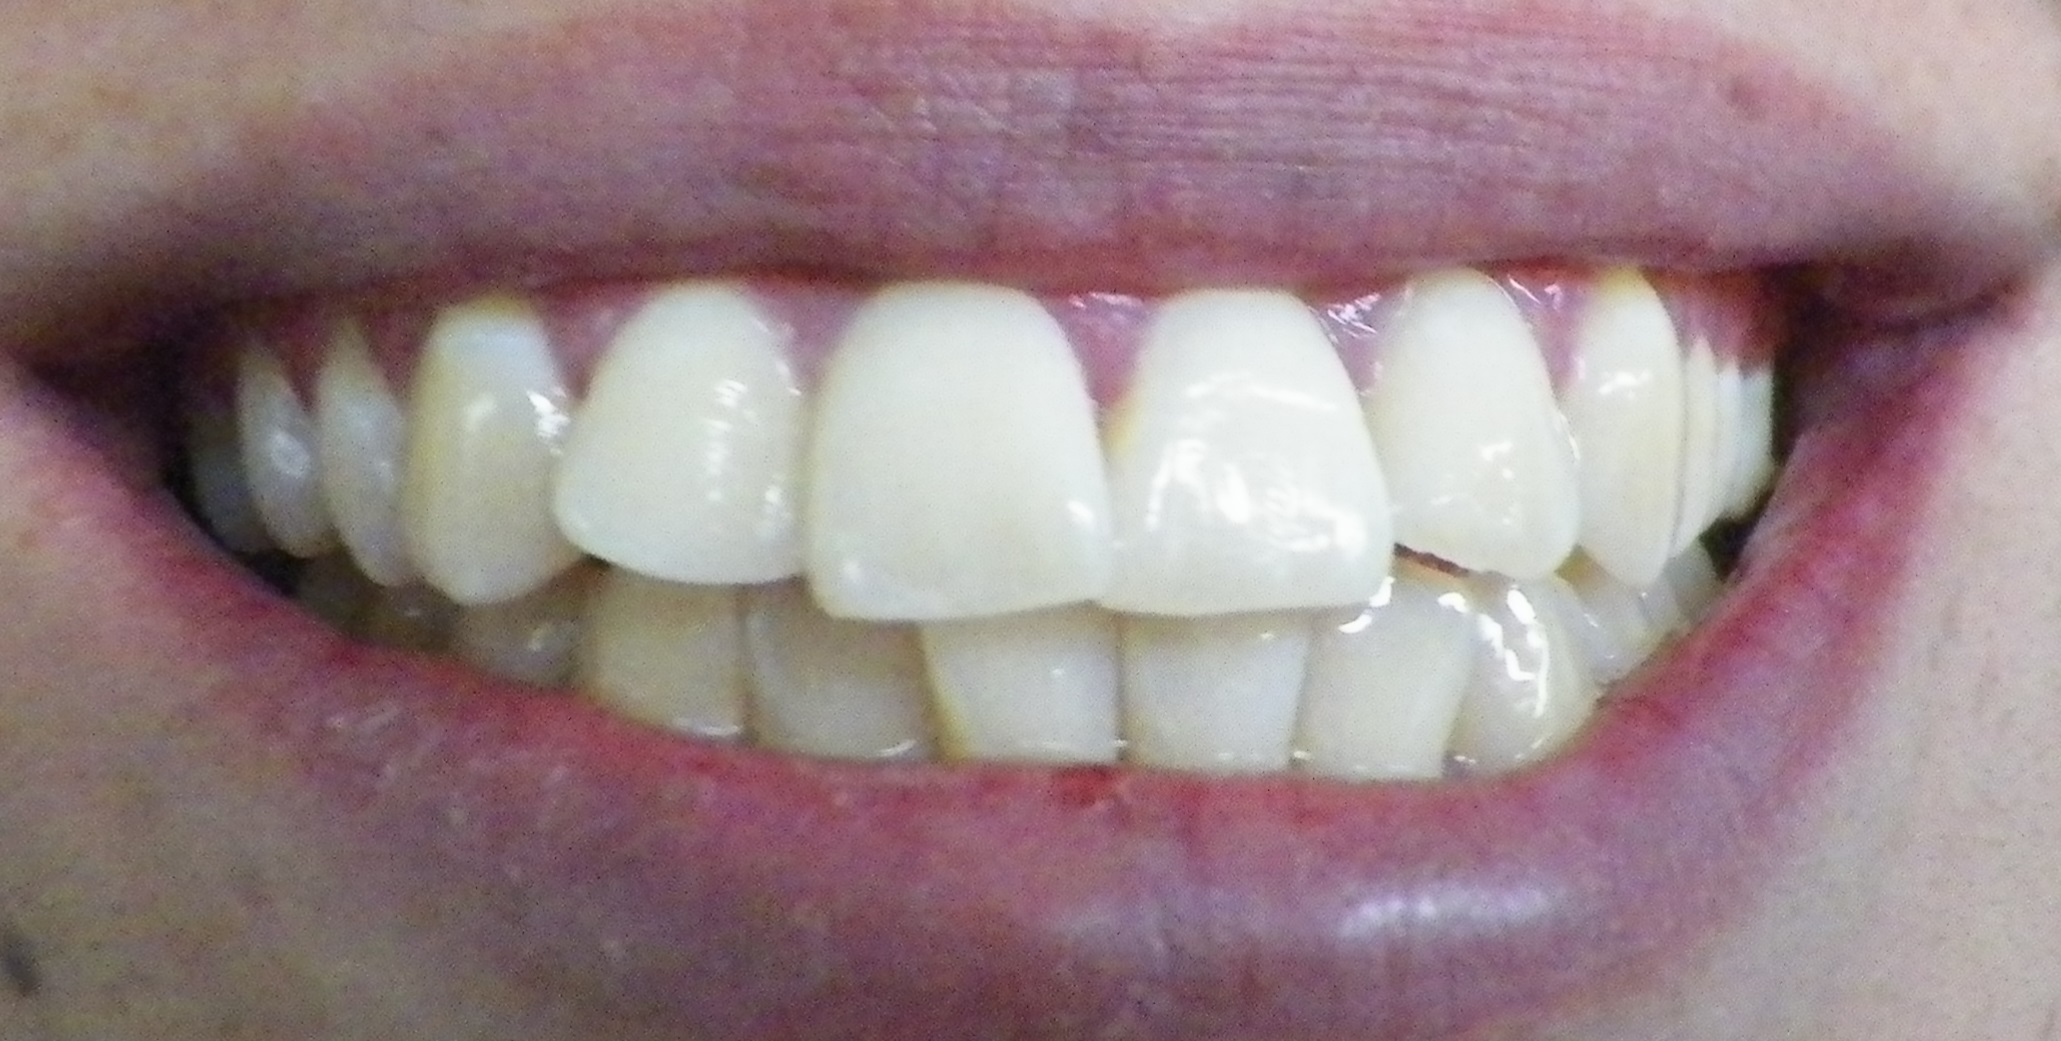boca: (246, 284, 1854, 774)
